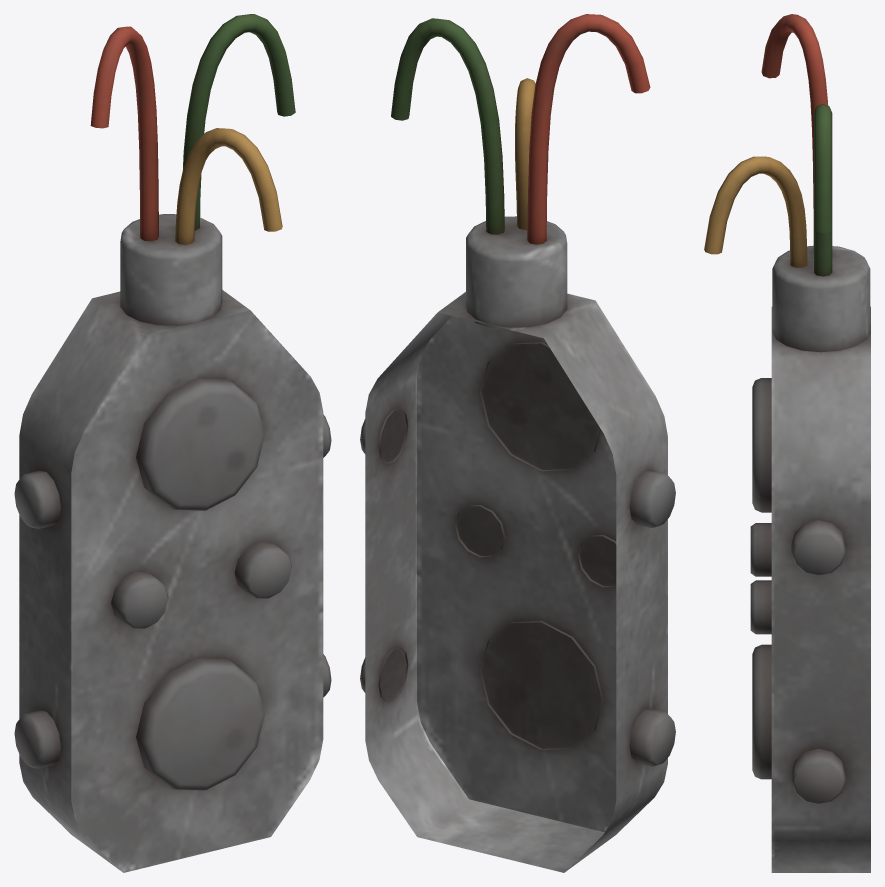
File: Cables01_13.glb
3 views of the same model, side by side, from view 1: azimuth 30°, elevation 25°; view 2: azimuth 150°, elevation 25°; view 3: azimuth 270°, elevation 25° (orthographic). The views are drawn at different scales.
Visible parts, largest first — view 1: Circle_024; view 2: Circle_024; view 3: Circle_024.
Boxes of the visible parts, <box> form: Circle_024: <box>14,14,331,872</box>; Circle_024: <box>360,14,675,872</box>; Circle_024: <box>704,14,870,872</box>.
Bounding box in the file's own units: 0.1422 × 0.386 × 0.0736.
Materials: 1 (1 with a texture image).
